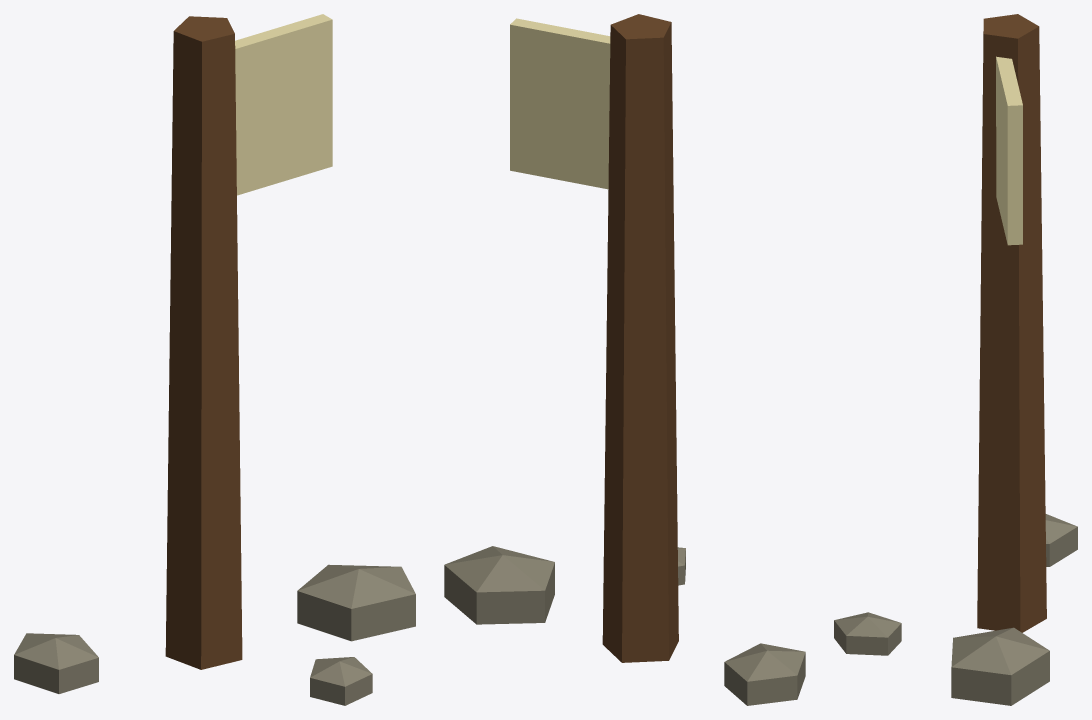
File: cover_boundary_stake.glb
The picture shows the model from 3 angles, left to right: view 1: azimuth 30°, elevation 25°; view 2: azimuth 150°, elevation 25°; view 3: azimuth 270°, elevation 25°; orthographic projection. The views are drawn at different scales.
Parts seen in each view (by area): view 1: cover_boundary_stake; view 2: cover_boundary_stake; view 3: cover_boundary_stake.
Boxes of the visible parts, x1,y1,x2,y2 form: cover_boundary_stake: [14, 14, 415, 705]; cover_boundary_stake: [444, 14, 805, 705]; cover_boundary_stake: [834, 14, 1077, 705].
Bounding box in the file's own units: 0.529 × 0.866 × 0.3169.
